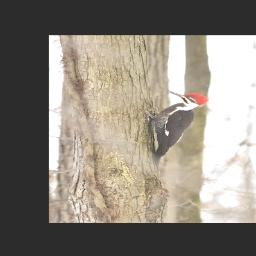Woodpecker: (139, 91, 210, 173)
